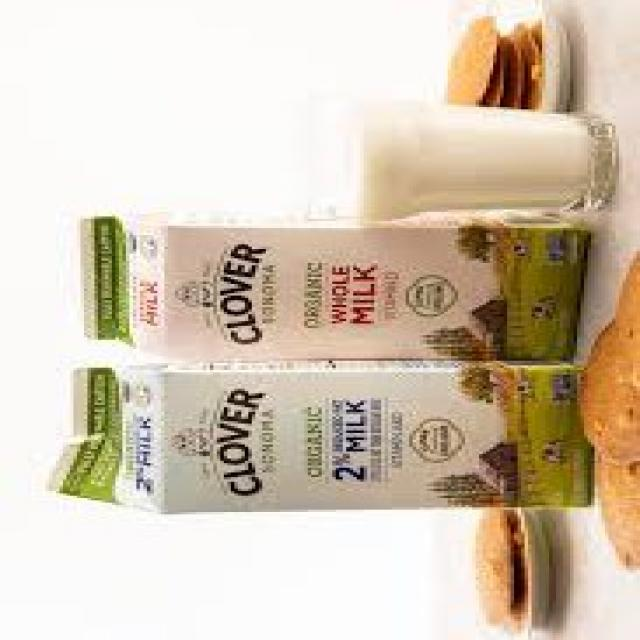non_white_jug: (67, 363, 602, 511), (74, 209, 594, 361)
